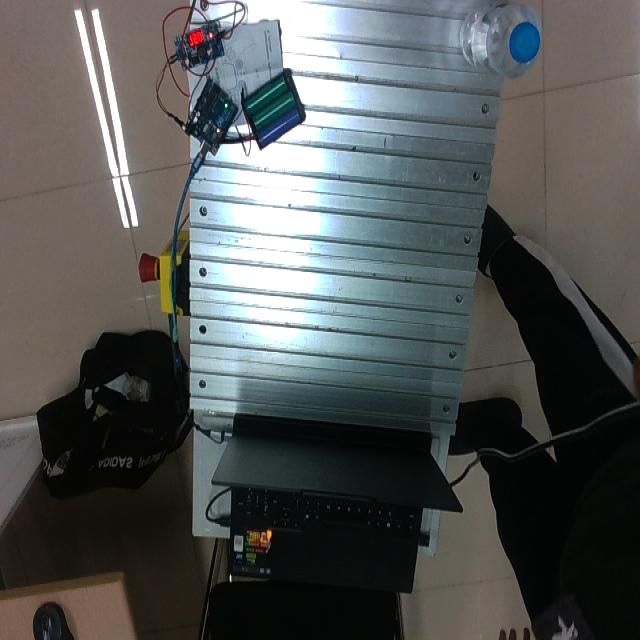lavie: (459, 3, 543, 80)
